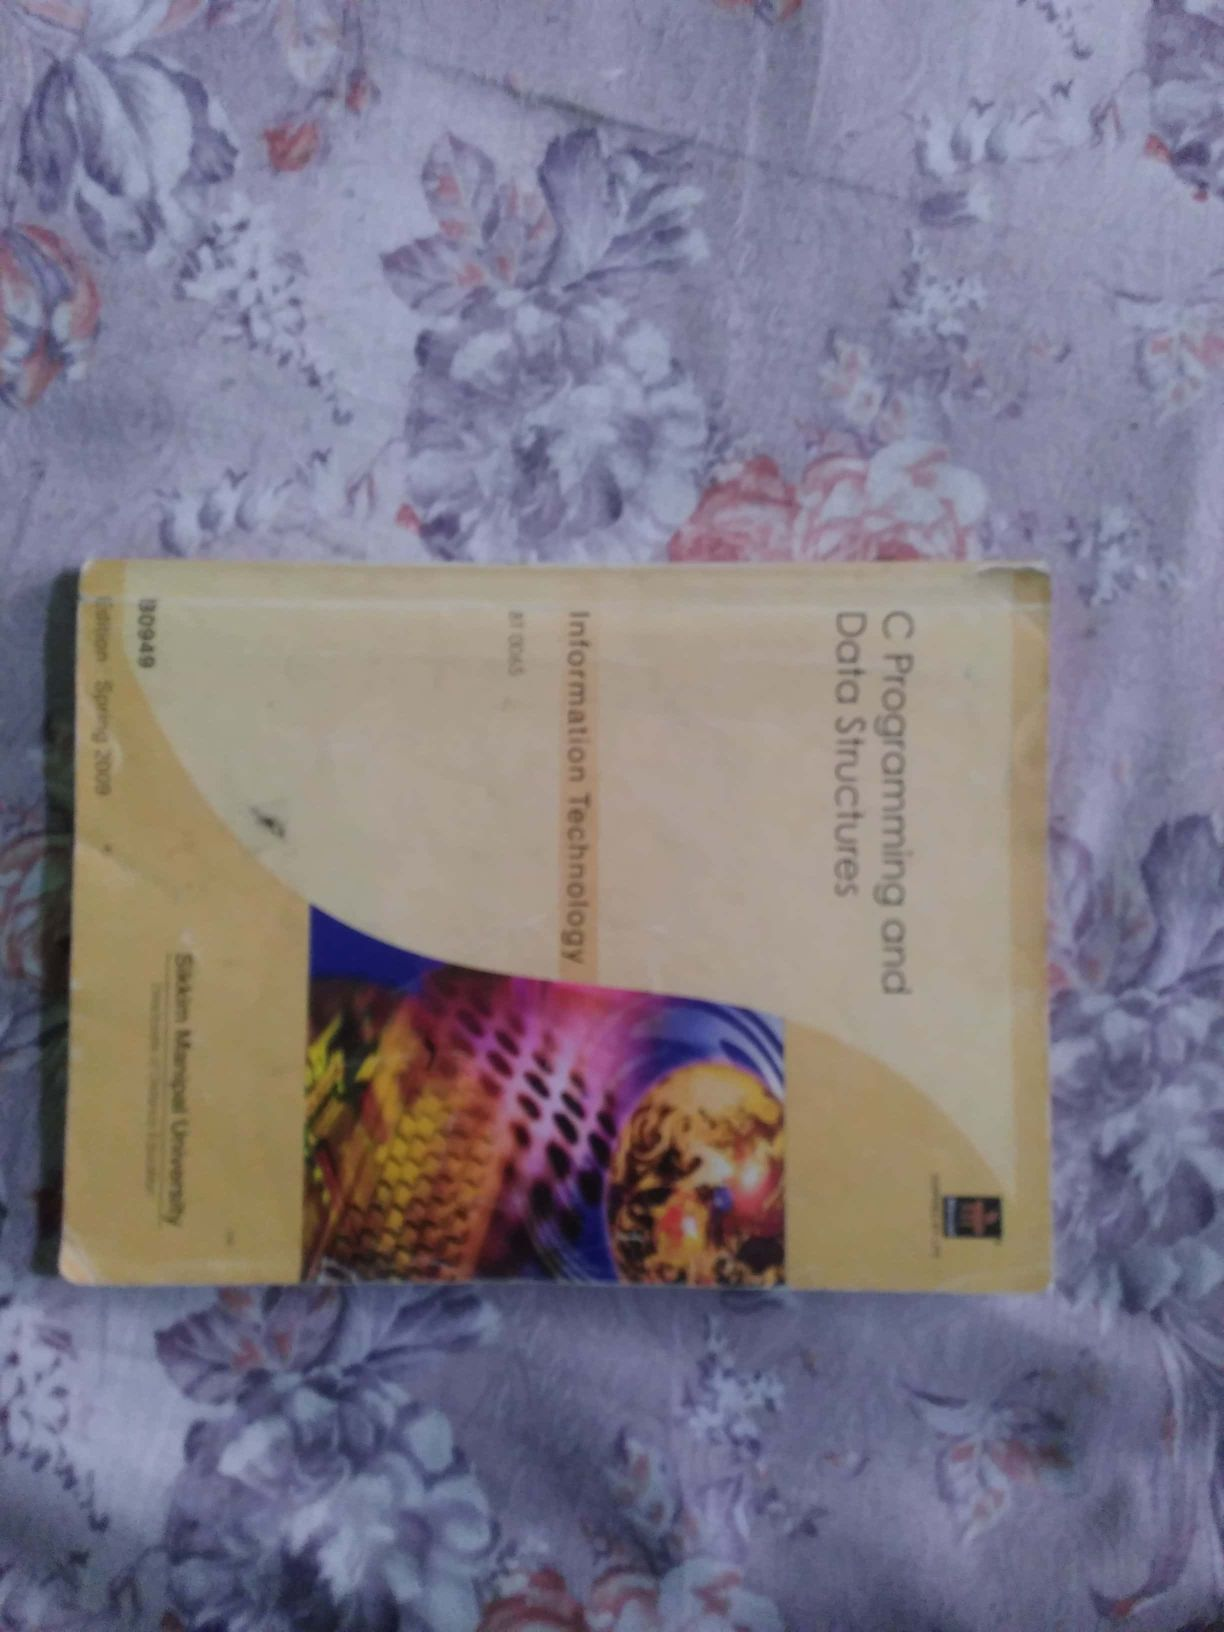clang: (36, 529, 1081, 1324)
